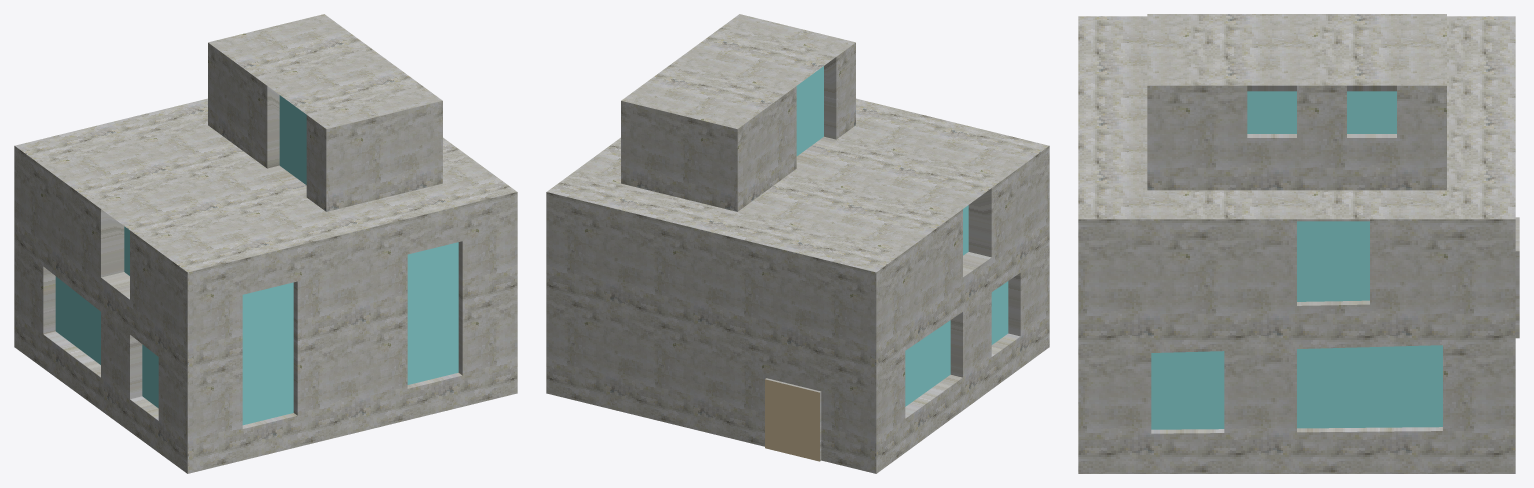
The model's file is House.gltf.
3 renders of one model, left to right at view 1: azimuth 30°, elevation 25°; view 2: azimuth 150°, elevation 25°; view 3: azimuth 270°, elevation 25°, orthographic. The views are drawn at different scales.
Parts seen in each view (by area): view 1: Cube; view 2: Cube; view 3: Cube.
Boxes of the visible parts, left/top/right/bottom form: Cube: left=14, top=14, right=517, bottom=473; Cube: left=546, top=14, right=1049, bottom=473; Cube: left=1078, top=14, right=1519, bottom=473.
Bounding box in the file's own units: 11 × 9.06 × 10.09.
3 materials, 1 textured.
